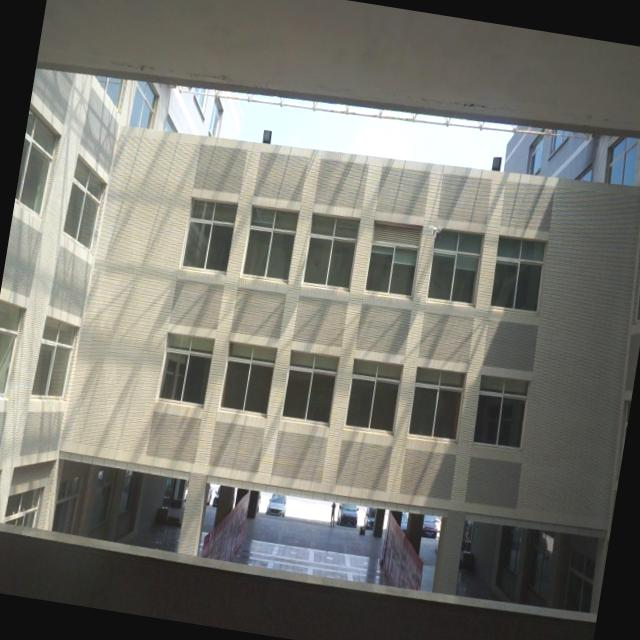drone: (426, 219, 445, 240)
